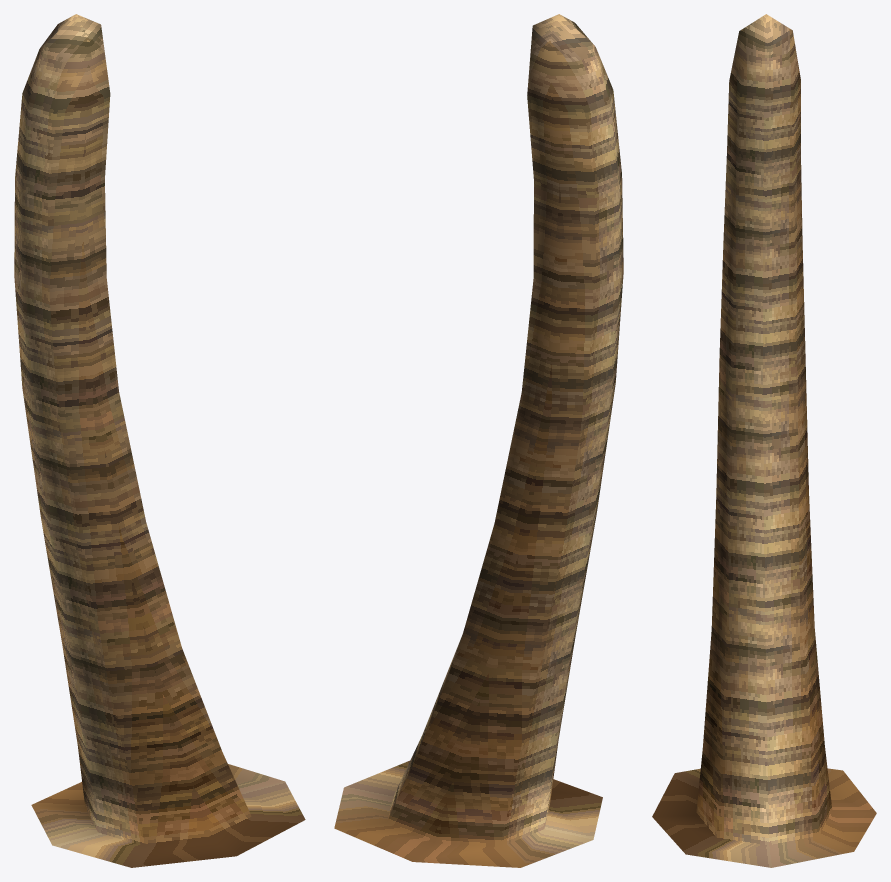
File: TREED.fbx
3 views of the same model, side by side, from view 1: azimuth 30°, elevation 25°; view 2: azimuth 150°, elevation 25°; view 3: azimuth 270°, elevation 25° (orthographic). The views are drawn at different scales.
Parts seen in each view (by area): view 1: mesh-9.001; view 2: mesh-9.001; view 3: mesh-9.001.
Boxes of the visible parts, <box> form: mesh-9.001: <box>14,14,305,867</box>; mesh-9.001: <box>334,14,623,867</box>; mesh-9.001: <box>652,14,876,867</box>.
Bounding box in the file's own units: 318 × 933 × 250.
